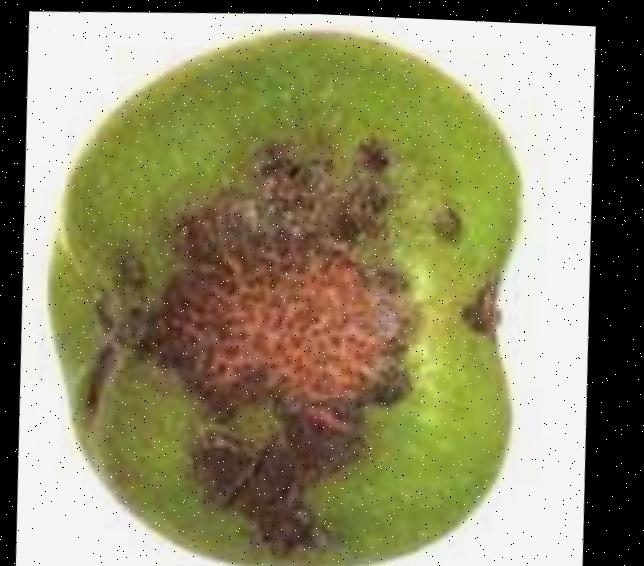SCAB: (6, 18, 574, 566)
